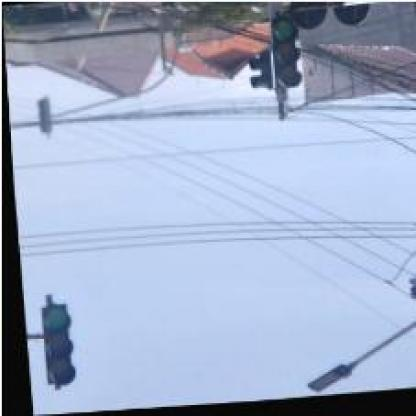green: (35, 303, 68, 386), (268, 16, 300, 90)
